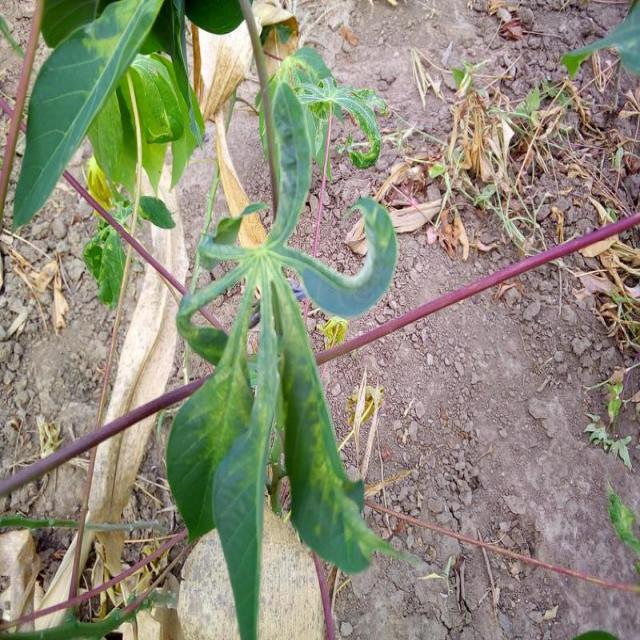cassava leaf: (164, 44, 404, 636), (11, 0, 168, 235)
